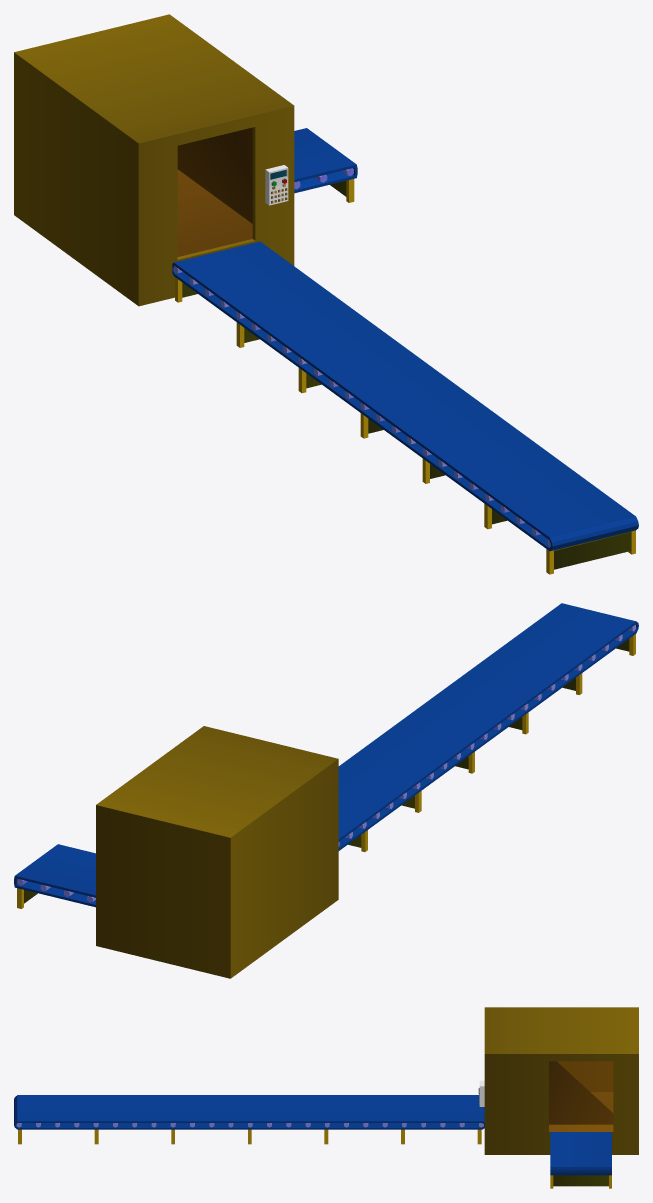
The model's file is SM_Prop_ConveyorBelt.fbx.
The picture shows the model from 3 angles, top to bottom: view 1: azimuth 30°, elevation 25°; view 2: azimuth 150°, elevation 25°; view 3: azimuth 270°, elevation 25°; orthographic projection. The views are drawn at different scales.
Parts seen in each view (by area): view 1: SM_Prop_ConveyorBelt; view 2: SM_Prop_ConveyorBelt; view 3: SM_Prop_ConveyorBelt.
Boxes of the visible parts, left/top/right/bottom form: SM_Prop_ConveyorBelt: left=14, top=14, right=638, bottom=574; SM_Prop_ConveyorBelt: left=14, top=603, right=638, bottom=978; SM_Prop_ConveyorBelt: left=14, top=1007, right=638, bottom=1188.
Size of the model in its own units: 6.29 by 3.61 by 20.24.
1 material, 1 textured.
